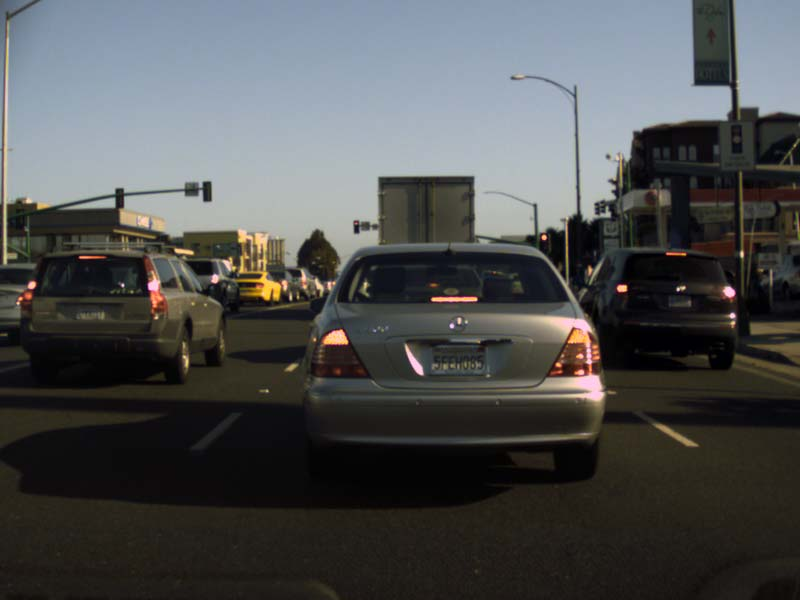Red: (539, 233, 550, 252), (352, 220, 359, 234)
